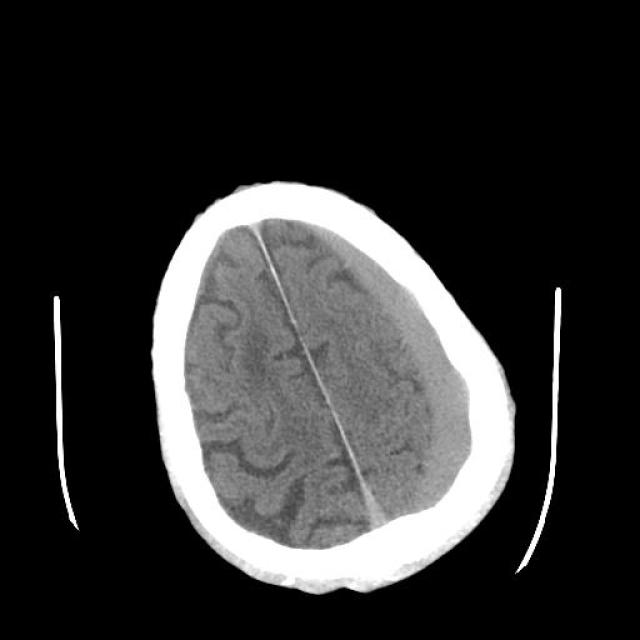Subdural: (315, 212, 500, 510)
